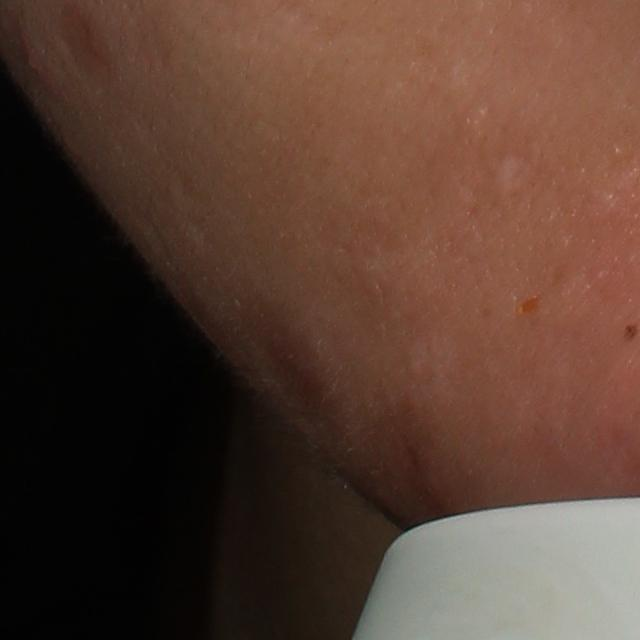hypertrophic_scar: (486, 151, 522, 209)
nevus: (622, 325, 638, 343)
